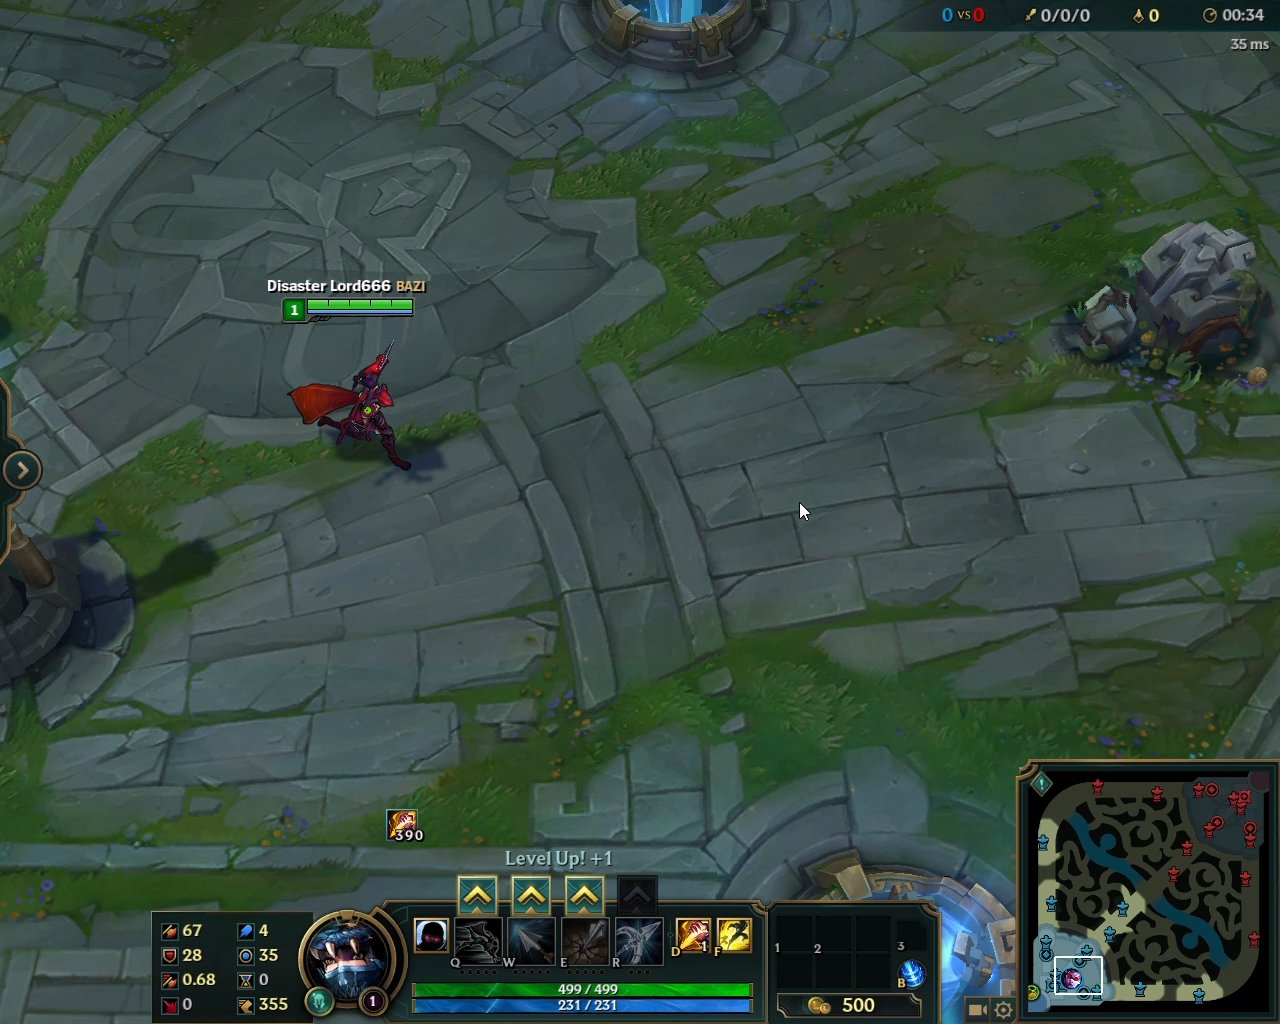Vayne: (281, 344, 423, 472)
